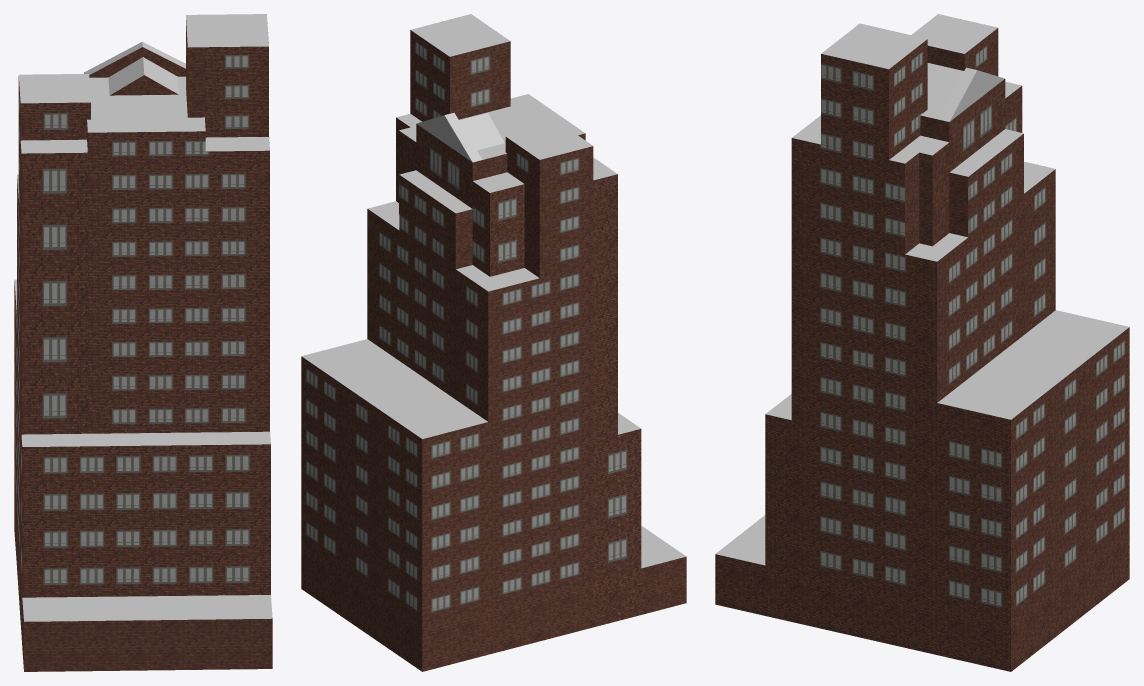
File: building-0-0-398.dae
The picture shows the model from 3 angles, left to right: view 1: azimuth 30°, elevation 25°; view 2: azimuth 150°, elevation 25°; view 3: azimuth 270°, elevation 25°; orthographic projection. The views are drawn at different scales.
Visible parts, largest first — view 1: geopipeinode0TqVp8KA (×3); view 2: geopipeinode0TqVp8KA (×3); view 3: geopipeinode0TqVp8KA (×3).
Part boxes in pixels (<box>): geopipeinode0TqVp8KA (×3): <box>14,14,272,671</box>; geopipeinode0TqVp8KA (×3): <box>301,14,686,671</box>; geopipeinode0TqVp8KA (×3): <box>715,14,1129,671</box>.
Size of the model in its own units: 34.1 by 37.26 by 57.
